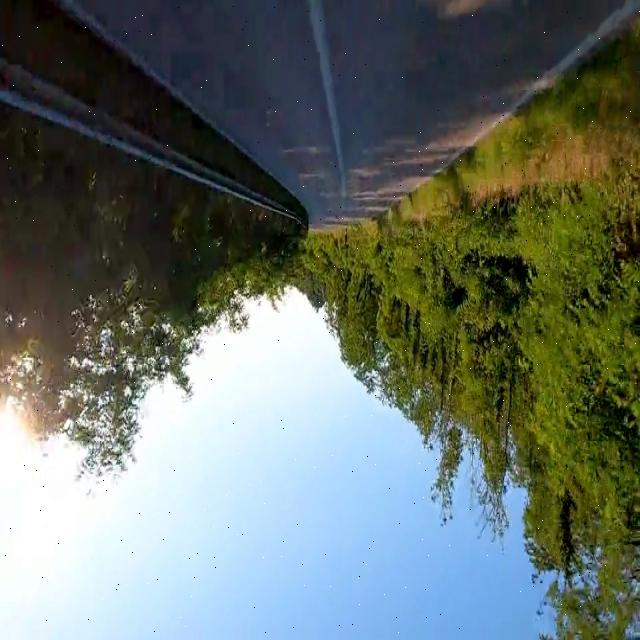lane: (65, 2, 633, 229), (325, 2, 637, 223), (309, 1, 345, 203)
road: (65, 2, 634, 229)
